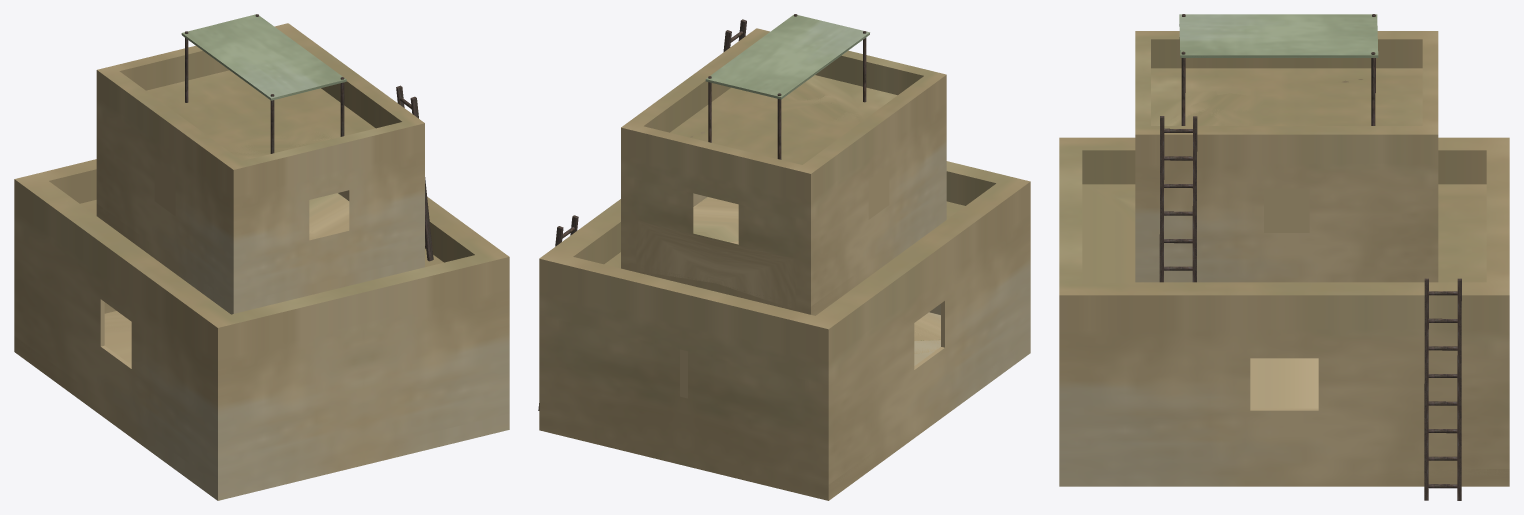
The model's file is home3_floor.fbx.
3 renders of one model, left to right at view 1: azimuth 30°, elevation 25°; view 2: azimuth 150°, elevation 25°; view 3: azimuth 270°, elevation 25°, orthographic. The views are drawn at different scales.
Visible parts, largest first — view 1: Cube.003; view 2: Cube.003; view 3: Cube.003.
Boxes of the visible parts, bbox=[...] form: Cube.003: bbox=[14, 14, 509, 500]; Cube.003: bbox=[538, 14, 1030, 500]; Cube.003: bbox=[1059, 14, 1509, 500].
Size of the model in its own units: 2759 by 2854 by 3093.
